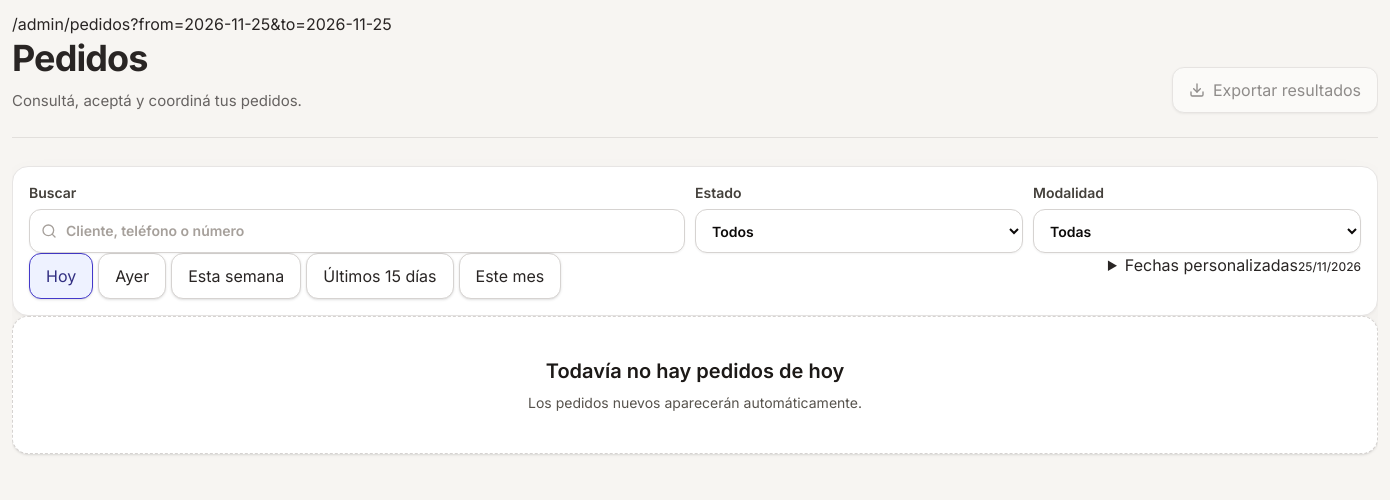
Test case: order date range › keeps manual date edits valid and visible
Type "2099-09-30" into the date field named "Desde" at [1234, 265], box [1108, 253, 1361, 277]
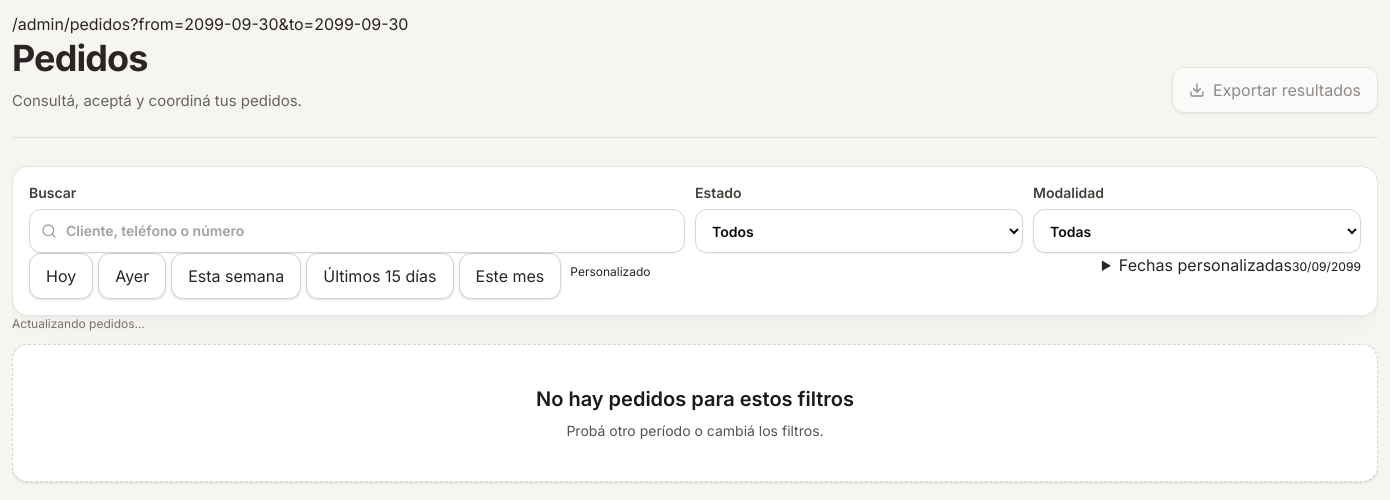
Type "2099-09-29" into the date field named "Hasta" at [1231, 265], box [1102, 253, 1361, 277]
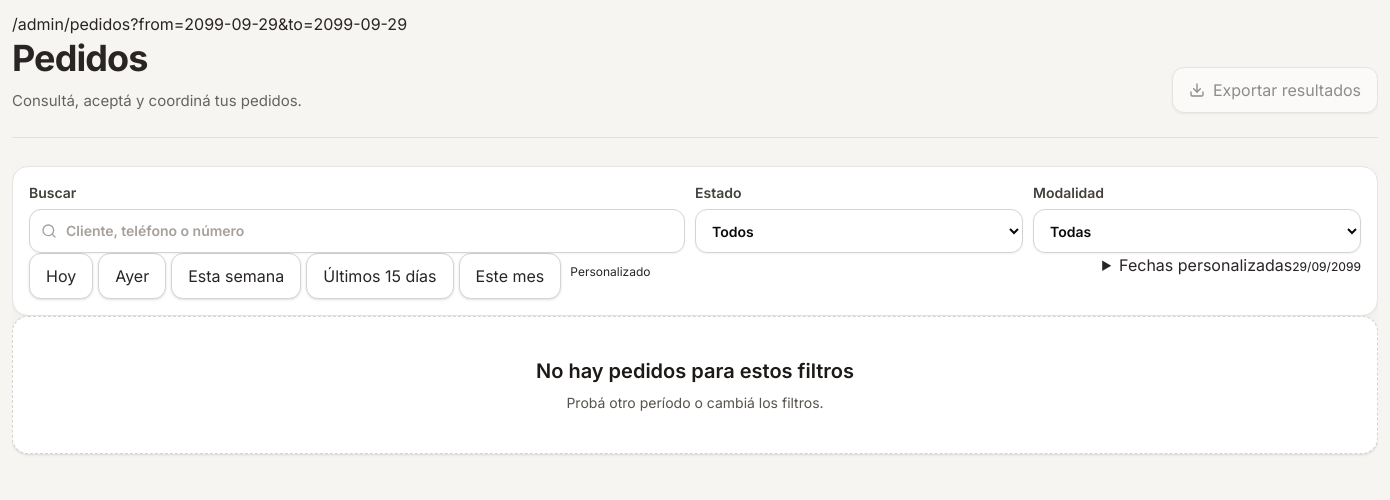
Expected: the heading "Pedidos" is shown, [12, 36, 148, 80]
Now the message "Actualizando pedidos…" is gone
